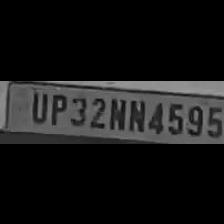2: (88, 92, 106, 128)
3: (66, 90, 88, 126)
4: (146, 97, 164, 133)
5: (165, 100, 183, 134), (204, 102, 222, 136)
9: (184, 100, 204, 136)
N: (107, 94, 125, 130), (125, 96, 144, 130)
P: (46, 90, 66, 124)
U: (28, 88, 46, 124)
